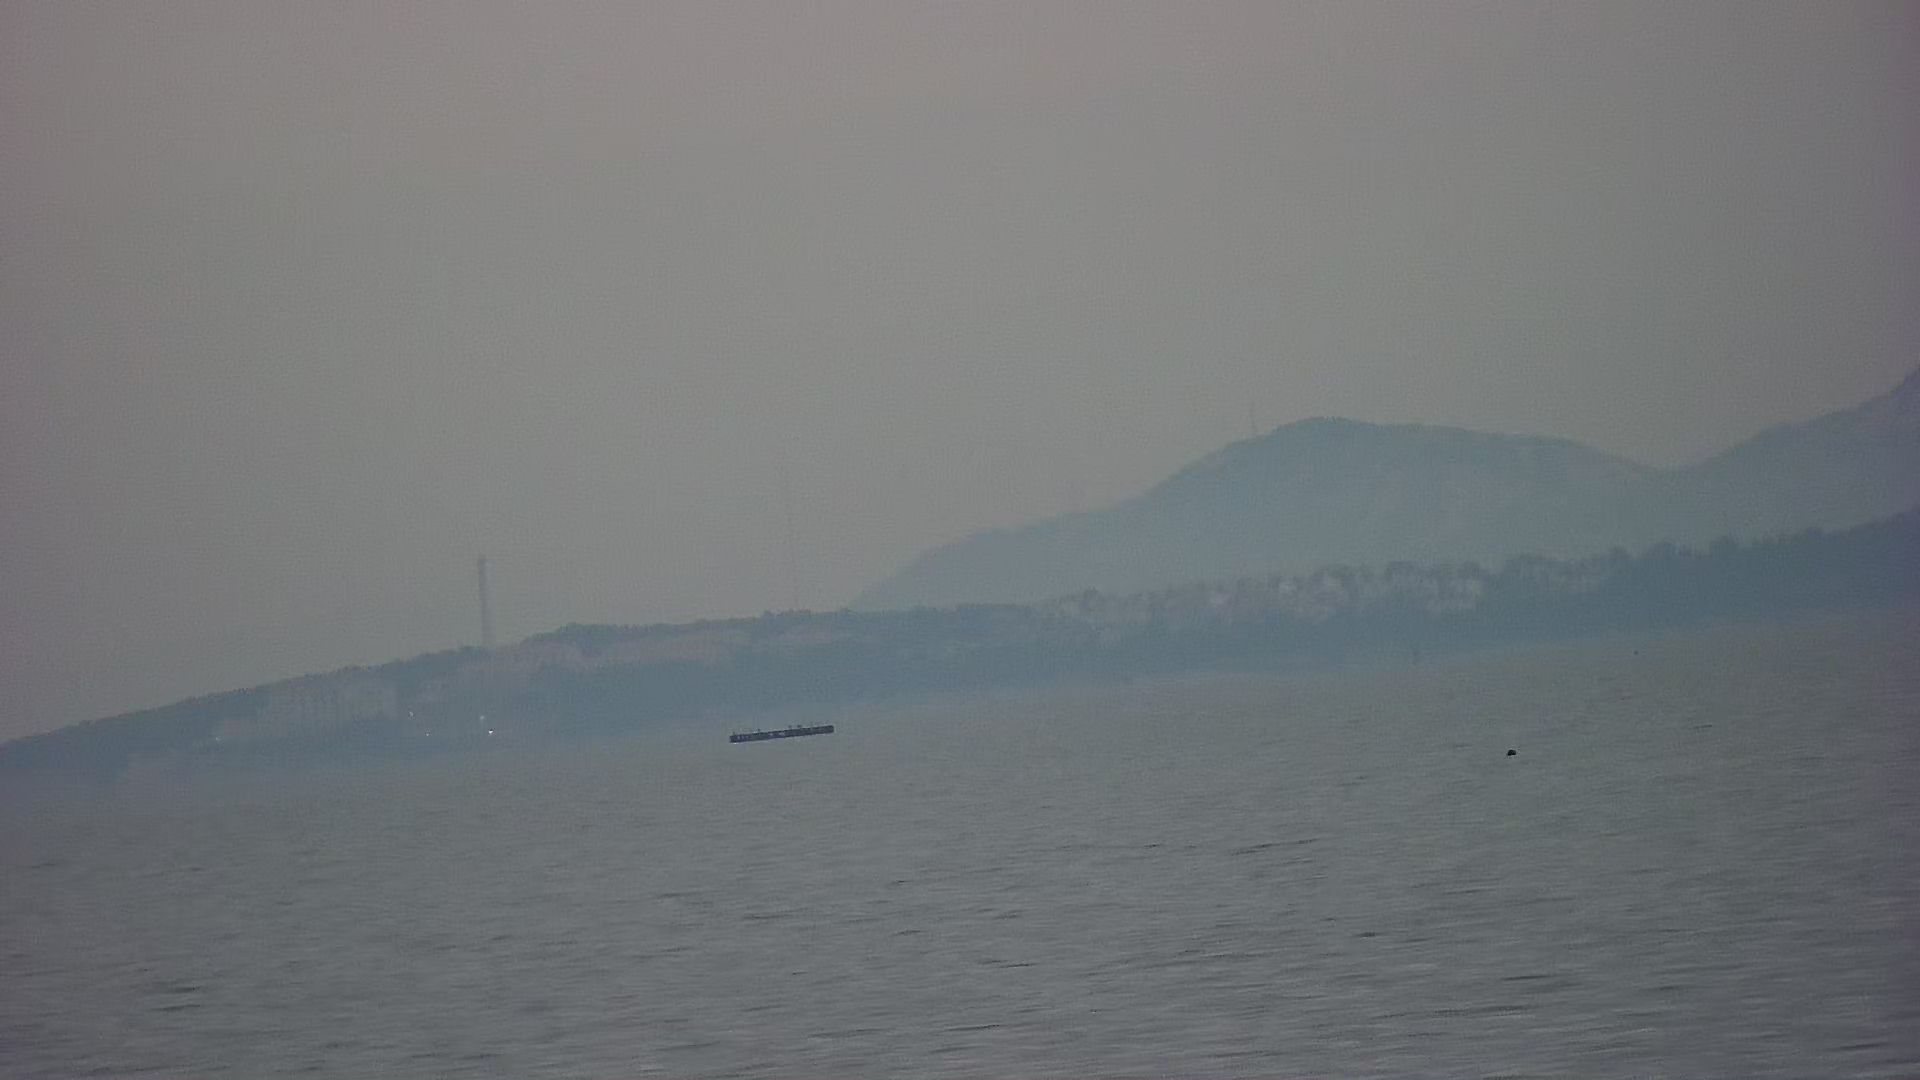ship: (729, 715, 847, 756)
